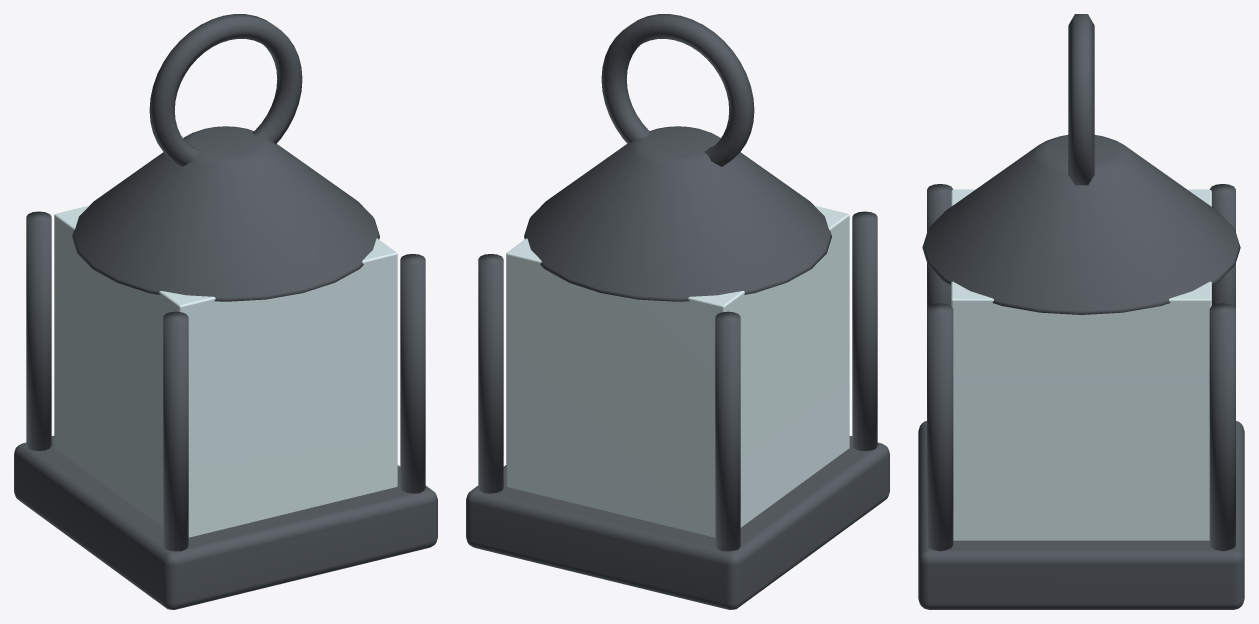
The model's file is atelier-hanging-outdoor-lantern.glb.
The picture shows the model from 3 angles, left to right: view 1: azimuth 30°, elevation 25°; view 2: azimuth 150°, elevation 25°; view 3: azimuth 270°, elevation 25°; orthographic projection. The views are drawn at different scales.
Visible parts, largest first — view 1: metal.089, glass.011; view 2: metal.089, glass.011; view 3: metal.089, glass.011.
Part boxes in pixels (x1,y1,x2,y2): metal.089: [14, 14, 437, 609]; glass.011: [54, 205, 397, 537]; metal.089: [466, 14, 889, 609]; glass.011: [506, 205, 849, 537]; metal.089: [918, 14, 1244, 609]; glass.011: [951, 189, 1211, 540].
Bounding box in the file's own units: 0.3 × 0.5304 × 0.3.
